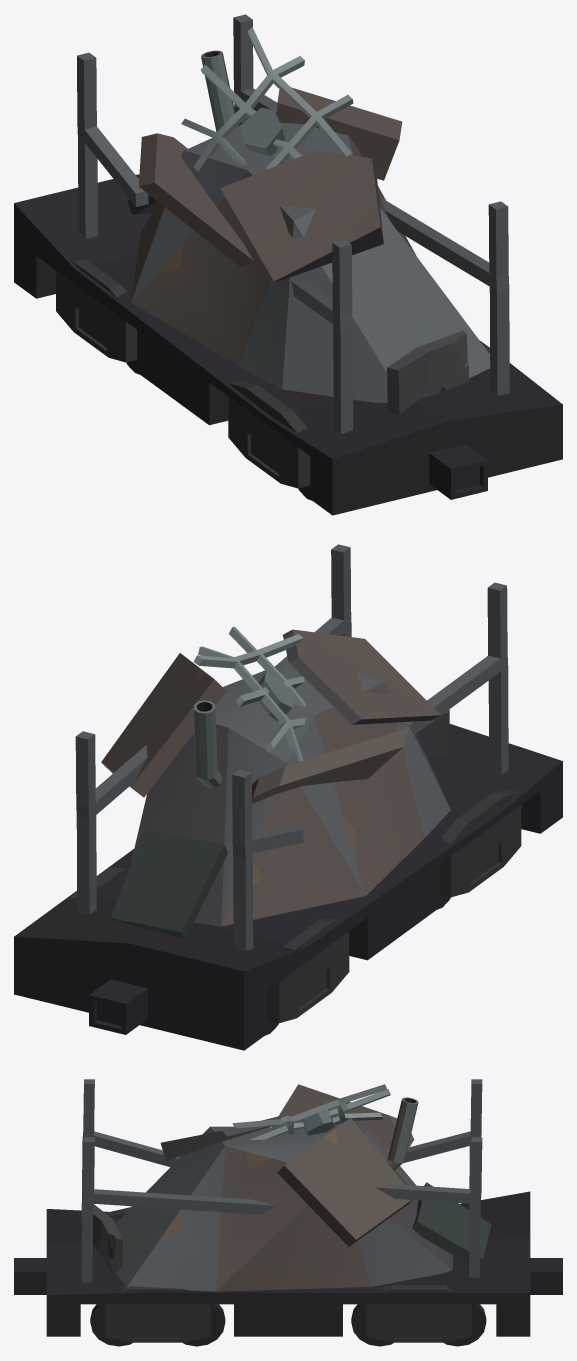
Rendered from mesh_empty_junk.fbx.
3 views of the same model, one above another, from view 1: azimuth 30°, elevation 25°; view 2: azimuth 150°, elevation 25°; view 3: azimuth 270°, elevation 25° (orthographic). The views are drawn at different scales.
Parts seen in each view (by area): view 1: empty_junk; view 2: empty_junk; view 3: empty_junk.
Boxes of the visible parts, x1,y1,x2,y2 form: empty_junk: (14, 14, 562, 515); empty_junk: (14, 544, 562, 1050); empty_junk: (14, 1079, 562, 1346).
Size of the model in its own units: 3.69 by 4.01 by 8.39.
